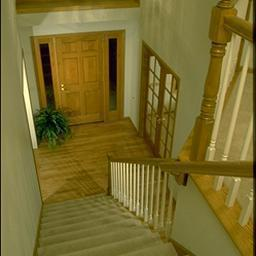Escaleras: (7, 154, 248, 253)
Matera: (33, 107, 71, 147)
Puerta: (138, 43, 181, 155), (56, 36, 103, 124)
